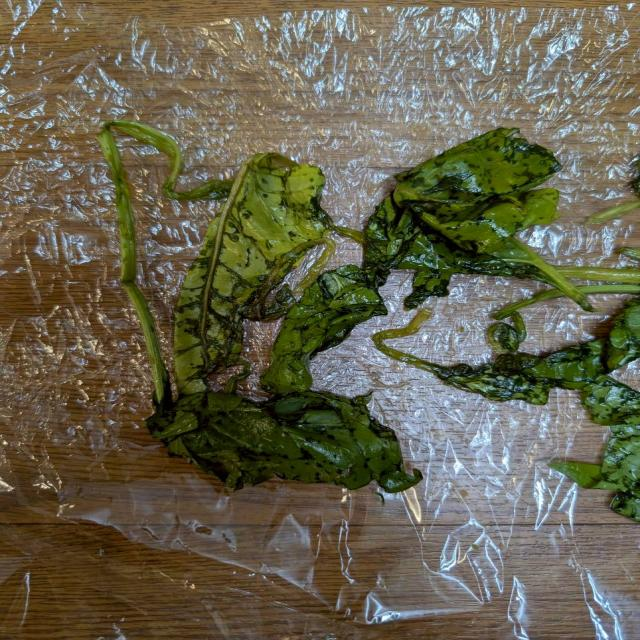rotten spinach: (77, 72, 640, 534), (81, 91, 448, 502), (363, 266, 640, 522), (372, 107, 640, 310)
